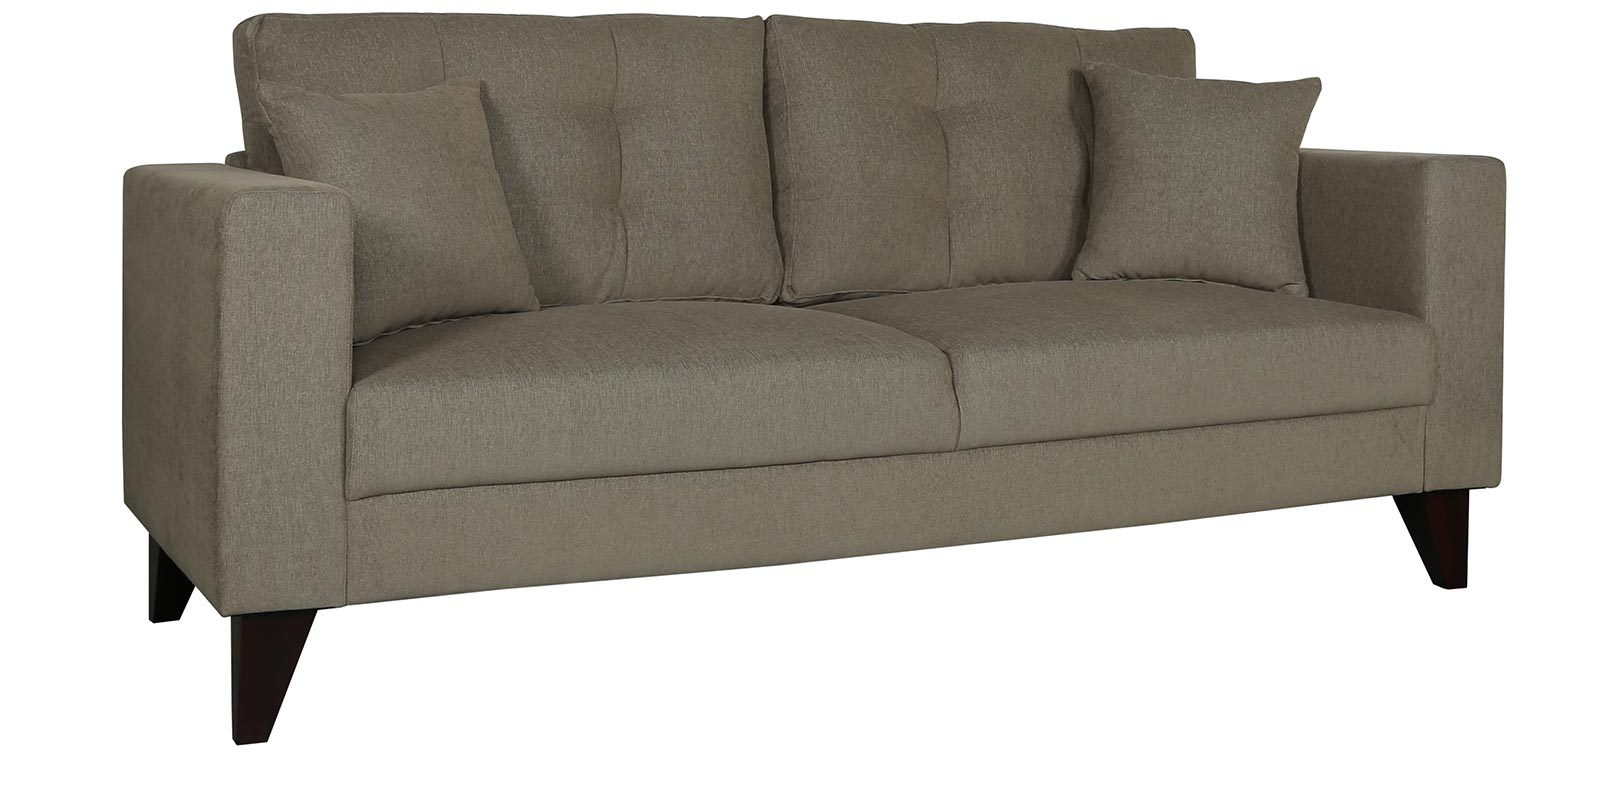Alfredo Three Seater Sofa in Sandy Brown Colour by CasaCraft: (100, 4, 1514, 741)
